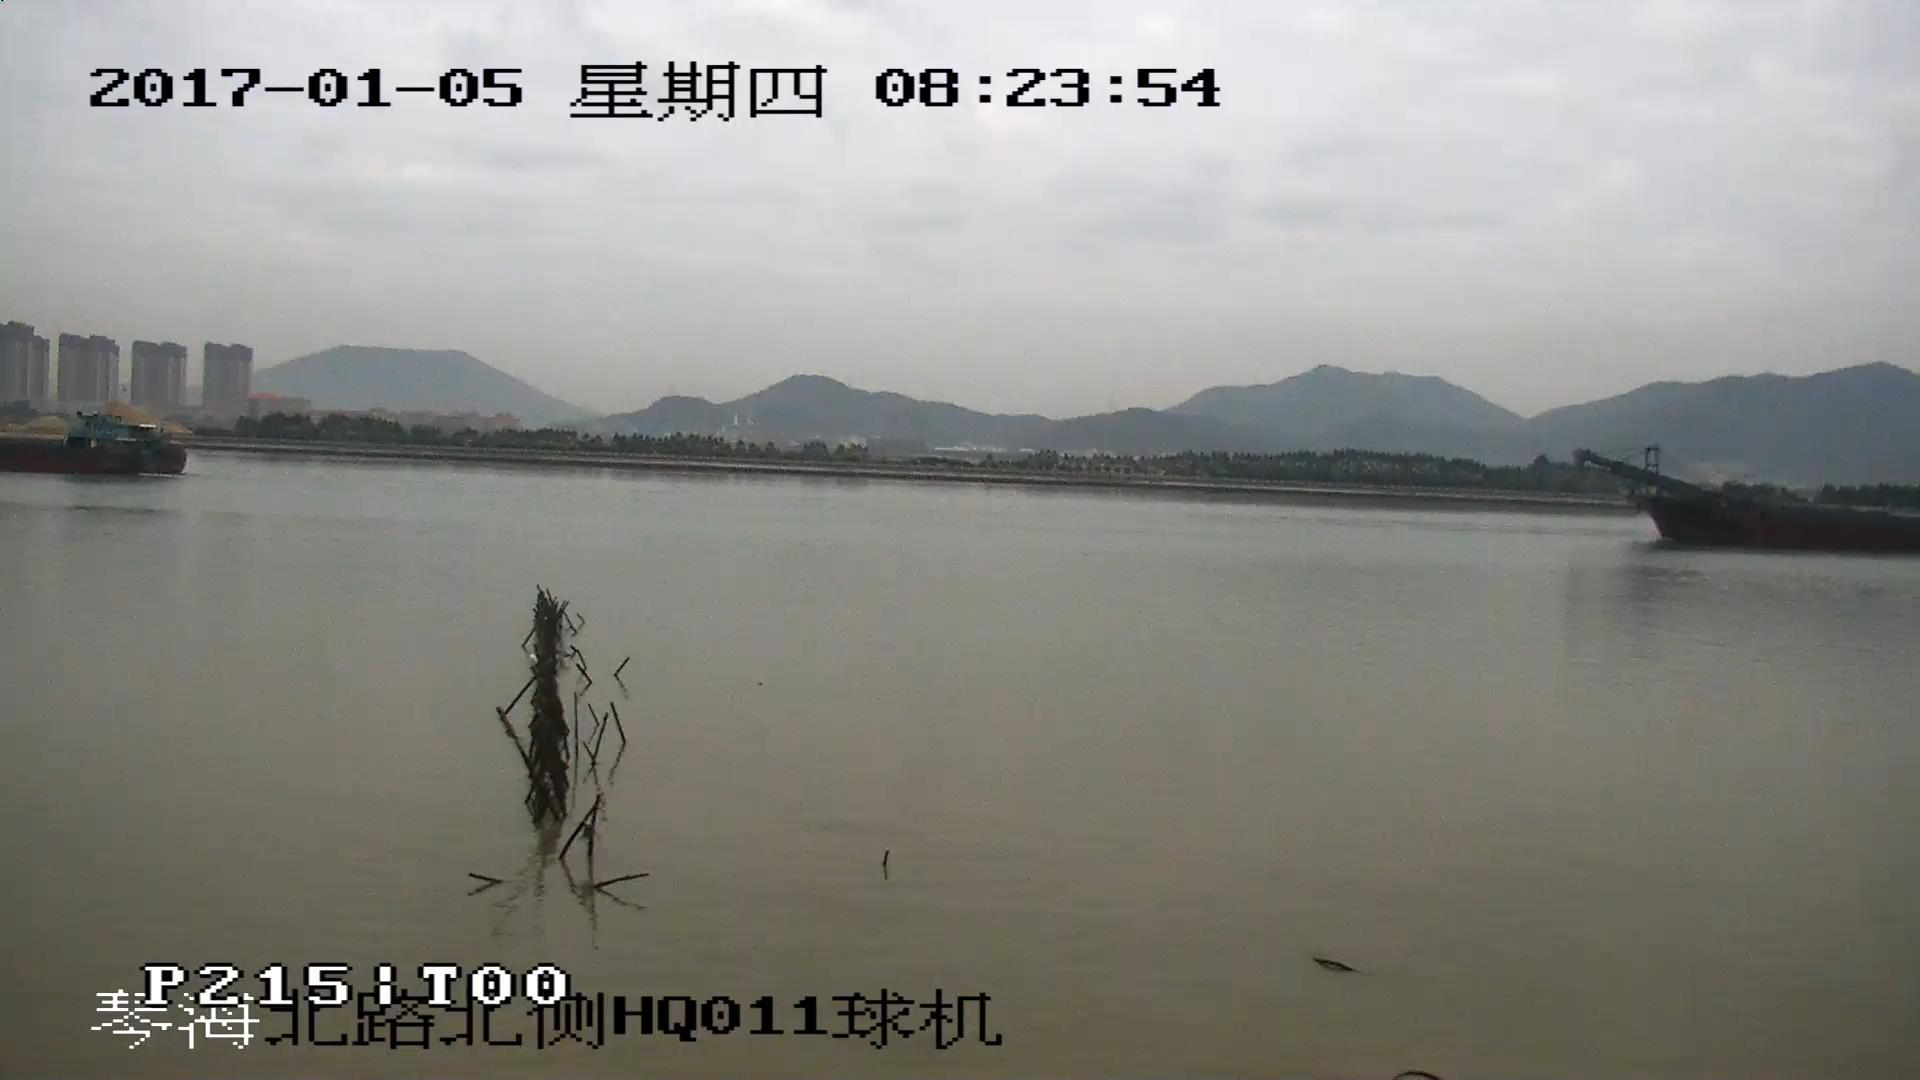Ship: (1582, 454, 1920, 549), (3, 418, 189, 477)
